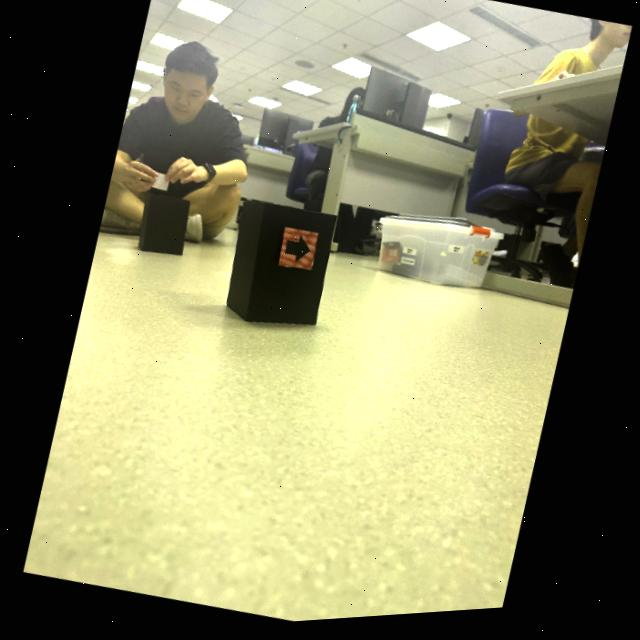RIGHT: (284, 239, 308, 265)
